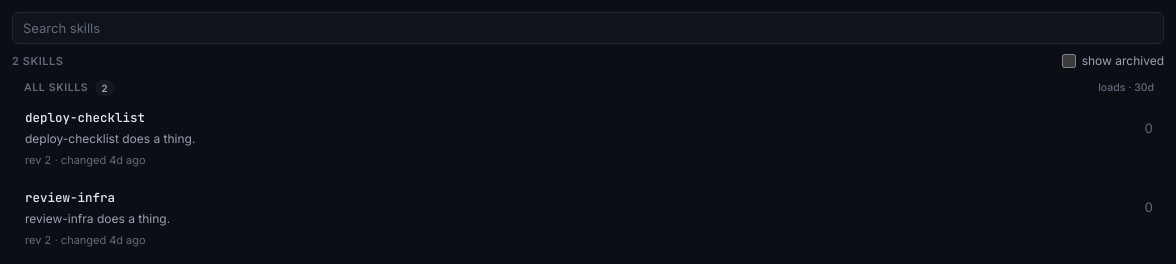
it: SkillList › asks for archived skills when toggled and badges them
Check: the text "deploy-checklist" is shown, box [25,109,145,126]
Step 1. Click the checkbox labelled "show archived" → click(1069, 61), box [1062,54,1076,68]
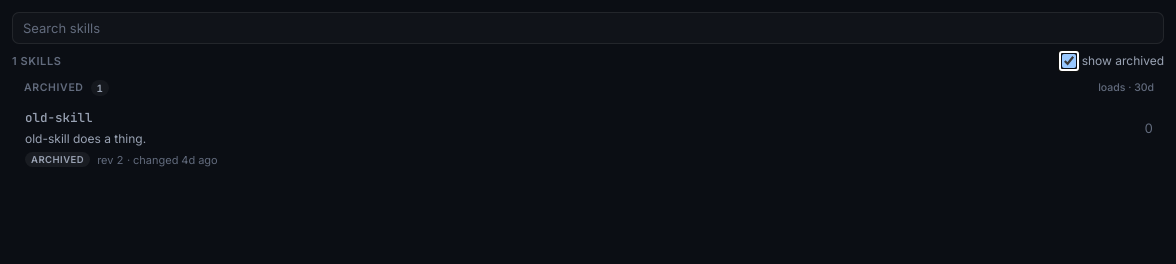
Check: the text "archived" is shown, box [25,152,90,167]
